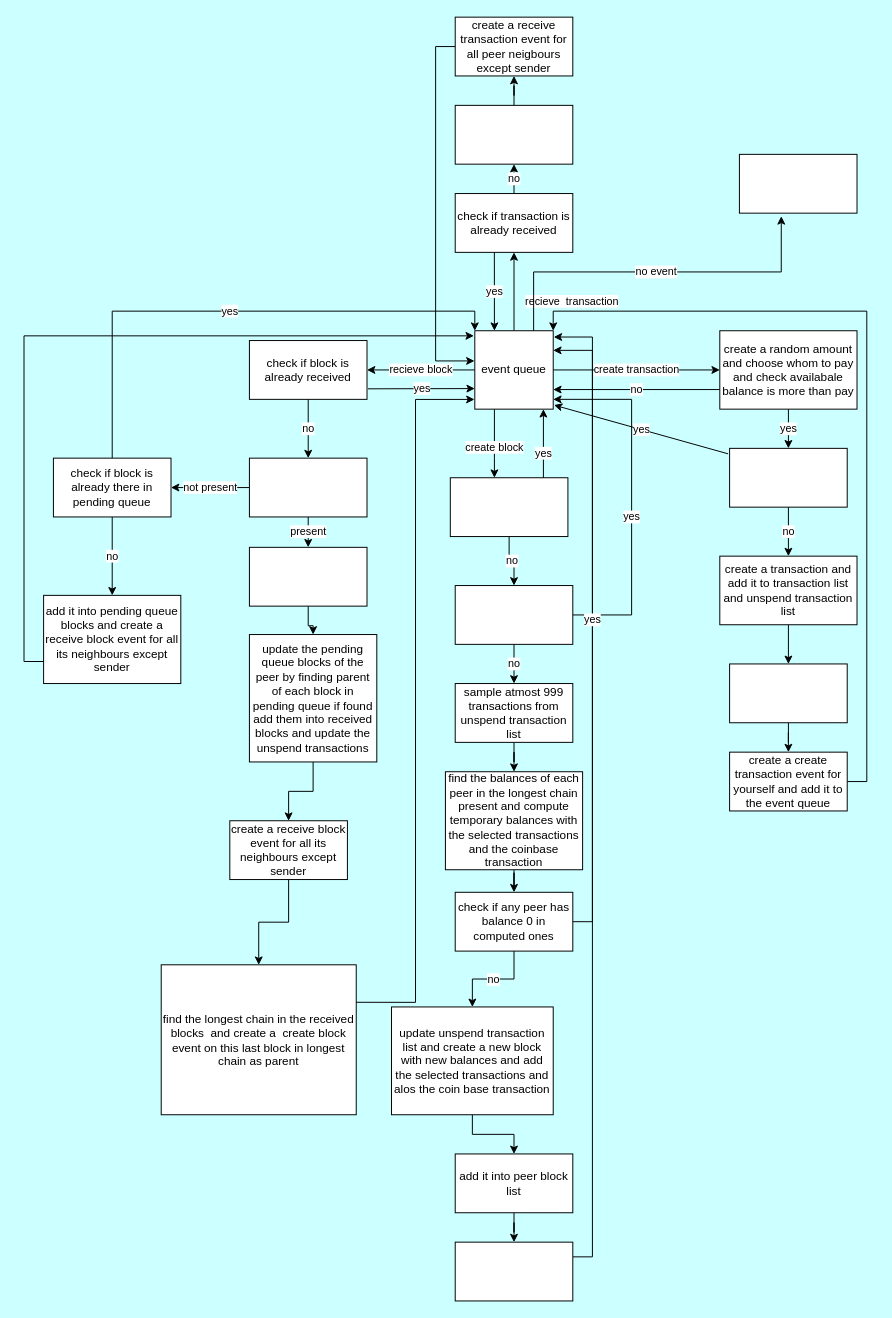
The diagram is 892 pixels wide and 1318 high, and some of its shapes have lost their labels. Each missing label, with the centre of its shape:
"add it into transaction list and unspend transaction list if not present" belongs at point 513,134.
"check if no of blocks created reached its limit" belongs at point 788,477.
"check if no of blocks created reached the limit" belongs at point 513,614.
"check if parent on which block is to be created is not the end of longest chain" belongs at point 508,507.
"create a receive block event for all its neighbours" belongs at point 513,1271.
"create a receive transaction event for all peer neighbours" belongs at point 788,693.
"find for its parent in the received blocks" belongs at point 307,487.
"insert into received blocks of peer and update the unspent transactions" belongs at point 307,576.
"simulation stops" belongs at point 797,183.
